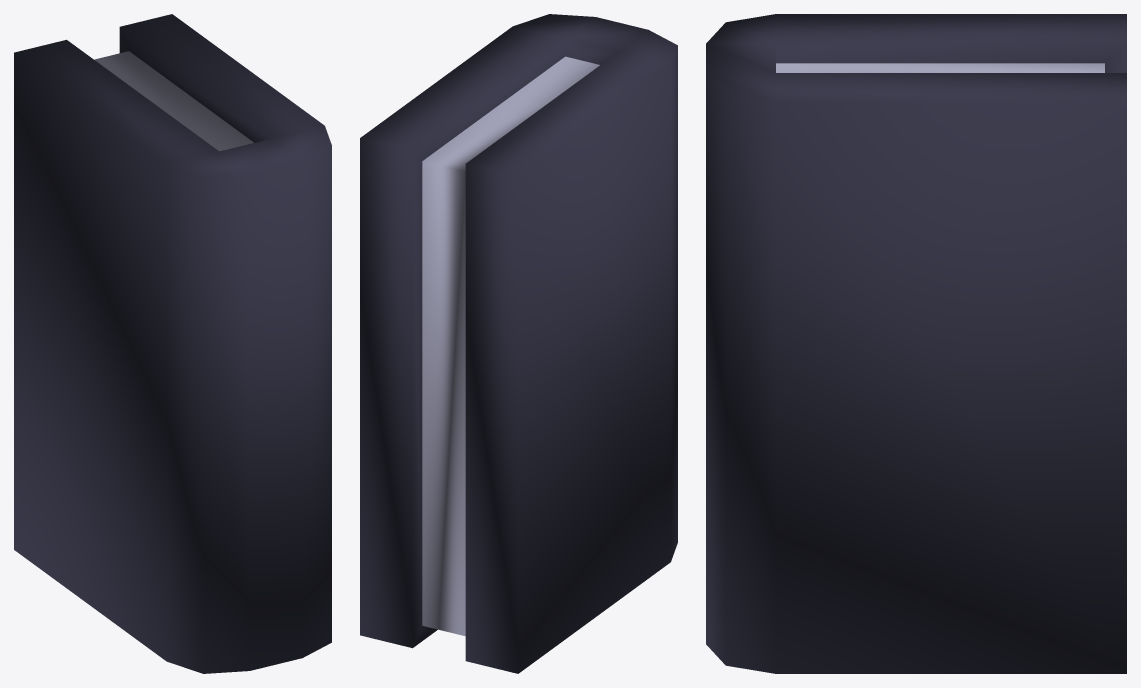
The model's file is Book.fbx.
The picture shows the model from 3 angles, left to right: view 1: azimuth 30°, elevation 25°; view 2: azimuth 150°, elevation 25°; view 3: azimuth 270°, elevation 25°; orthographic projection. The views are drawn at different scales.
Parts seen in each view (by area): view 1: Book; view 2: Book; view 3: Book.
Boxes of the visible parts, box(x1,y1,x2,y2) form: Book: box(14, 14, 331, 673); Book: box(360, 14, 677, 673); Book: box(706, 14, 1126, 673).
Size of the model in its own units: 9.38 by 18.79 by 28.15.
